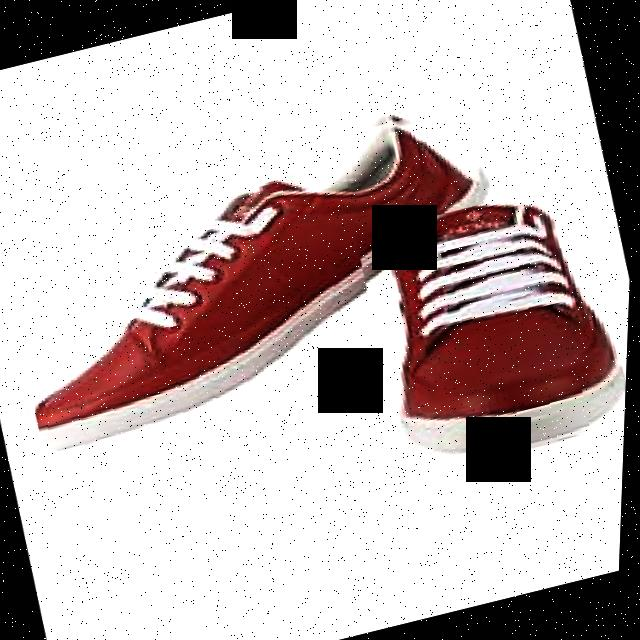shoe: (0, 91, 526, 456), (349, 178, 635, 481)
